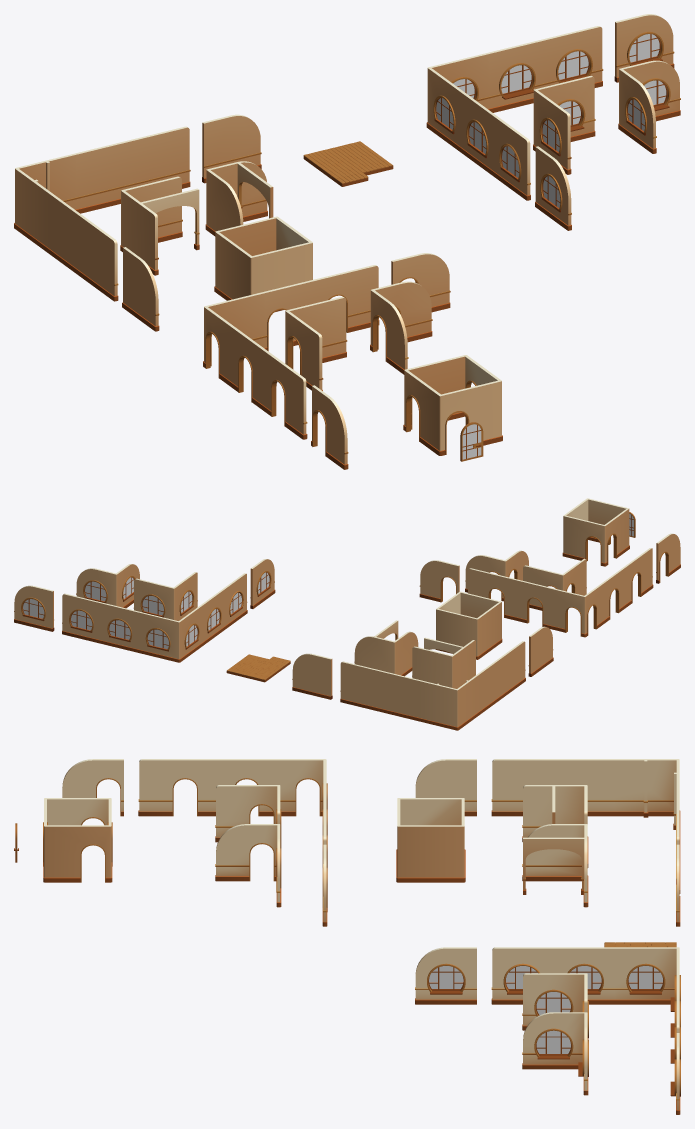
Rendered from Walls_Floors_Style_A.fbx.
3 renders of one model, top to bottom at view 1: azimuth 30°, elevation 25°; view 2: azimuth 150°, elevation 25°; view 3: azimuth 270°, elevation 25°, orthographic. The views are drawn at different scales.
Parts seen in each view (by area): view 1: Wall_A_Window_Dark_Mid, Wall_A_Dark_Mid, Wall_A_Window_Dark_Mid_End_X, Wall_A_Dark_Mid_End_X, Wall_A_Dark_Mid_End_XL, Wall_A_Window_Dark_Mid_End_XL, Wall_Door_A_Enclosed_Corner_S, Wall_A_Enclosed_Corner_S, Wall_Door_A_Dark_Mid_End_X, Wall_A_Light_Mid_End_X, Wall_A_Window_Light_Mid_End_X, Wall_A_Window_Light_Corner_End_XL (+34 smaller); view 2: Wall_A_Window_Dark_Corner_Mid, Wall_A_Dark_Corner_Mid, Wall_A_Window_Dark_Mid, Wall_A_Window_Dark_Mid_End_X, Wall_A_Dark_Mid, Wall_A_Dark_Mid_End_X, Wall_A_Dark_Mid_End_XL, Wall_A_Window_Dark_Mid_End_XL, Wall_Door_A_Enclosed_Corner_N, Wall_Door_A_Dark_Corner_Mid, Wall_A_Window_Dark_Corner_End_X, Wall_A_Dark_Corner_End_X (+31 smaller); view 3: Wall_A_Enclosed_Corner_E, Wall_A_Window_Light_Corner_Mid, Wall_A_Window_Light_Mid_End_XL, Wall_A_Light_Corner_Mid, Wall_A_Window_Light_Corner_End_XL, Wall_Door_A_Enclosed_Corner_E, Wall_Door_A_Light_Mid_End_X, Wall_A_Window_Light_Mid_End_X, Wall_A_Window_Light_Corner_End_X, Wall_Door_A_Light_Corner_End_XL, Wall_A_Light_Mid_End_X, Wall_A_Window_Light_Mid (+12 smaller).
Part boxes in pixels (x1=…): Wall_A_Window_Dark_Mid: x1=487, y1=39, x2=545, y2=112; Wall_A_Dark_Mid: x1=74, y1=140, x2=132, y2=213; Wall_A_Window_Dark_Mid_End_X: x1=544, y1=26, x2=603, y2=87; Wall_A_Dark_Mid_End_X: x1=131, y1=126, x2=190, y2=188; Wall_A_Dark_Mid_End_XL: x1=202, y1=114, x2=261, y2=183; Wall_A_Window_Dark_Mid_End_XL: x1=614, y1=14, x2=674, y2=82; Wall_Door_A_Enclosed_Corner_S: x1=440, y1=380, x2=502, y2=455; Wall_A_Enclosed_Corner_S: x1=251, y1=242, x2=312, y2=311; Wall_Door_A_Dark_Mid_End_X: x1=320, y1=265, x2=379, y2=332; Wall_A_Light_Mid_End_X: x1=81, y1=217, x2=118, y2=301; Wall_A_Window_Light_Mid_End_X: x1=493, y1=116, x2=530, y2=200; Wall_A_Window_Light_Corner_End_XL: x1=618, y1=69, x2=656, y2=153; Wall_A_Window_Dark_Corner_Mid: x1=139, y1=612, x2=179, y2=662; Wall_A_Dark_Corner_Mid: x1=417, y1=680, x2=457, y2=730; Wall_A_Window_Dark_Mid: x1=100, y1=602, x2=139, y2=652; Wall_A_Window_Dark_Mid_End_X: x1=62, y1=593, x2=101, y2=643; Wall_A_Dark_Mid: x1=379, y1=670, x2=418, y2=720; Wall_A_Dark_Mid_End_X: x1=340, y1=661, x2=379, y2=711; Wall_A_Dark_Mid_End_XL: x1=292, y1=653, x2=332, y2=699; Wall_A_Window_Dark_Mid_End_XL: x1=14, y1=585, x2=54, y2=631; Wall_Door_A_Enclosed_Corner_N: x1=562, y1=515, x2=605, y2=566; Wall_Door_A_Dark_Corner_Mid: x1=544, y1=586, x2=585, y2=637; Wall_A_Window_Dark_Corner_End_X: x1=133, y1=578, x2=174, y2=619; Wall_A_Dark_Corner_End_X: x1=412, y1=646, x2=452, y2=687; Wall_A_Enclosed_Corner_E: x1=397, y1=825, x2=464, y2=882; Wall_A_Window_Light_Corner_Mid: x1=615, y1=947, x2=678, y2=1004; Wall_A_Window_Light_Mid_End_XL: x1=415, y1=947, x2=476, y2=1004; Wall_A_Light_Corner_Mid: x1=615, y1=759, x2=678, y2=816; Wall_A_Window_Light_Corner_End_XL: x1=522, y1=1012, x2=586, y2=1069; Wall_Door_A_Enclosed_Corner_E: x1=44, y1=825, x2=111, y2=882; Wall_Door_A_Light_Mid_End_X: x1=138, y1=759, x2=200, y2=816; Wall_A_Window_Light_Mid_End_X: x1=491, y1=947, x2=553, y2=1004; Wall_A_Window_Light_Corner_End_X: x1=522, y1=973, x2=586, y2=1030; Wall_Door_A_Light_Corner_End_XL: x1=215, y1=824, x2=279, y2=881; Wall_A_Light_Mid_End_X: x1=491, y1=759, x2=553, y2=816; Wall_A_Window_Light_Mid: x1=553, y1=947, x2=615, y2=1004.
Size of the model in its own units: 4631 by 400 by 4344.
